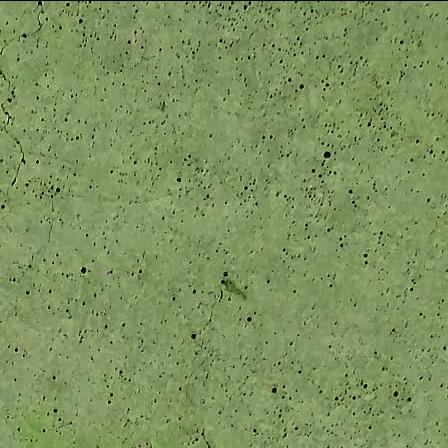crack: (0, 68, 26, 210), (0, 0, 57, 63)
